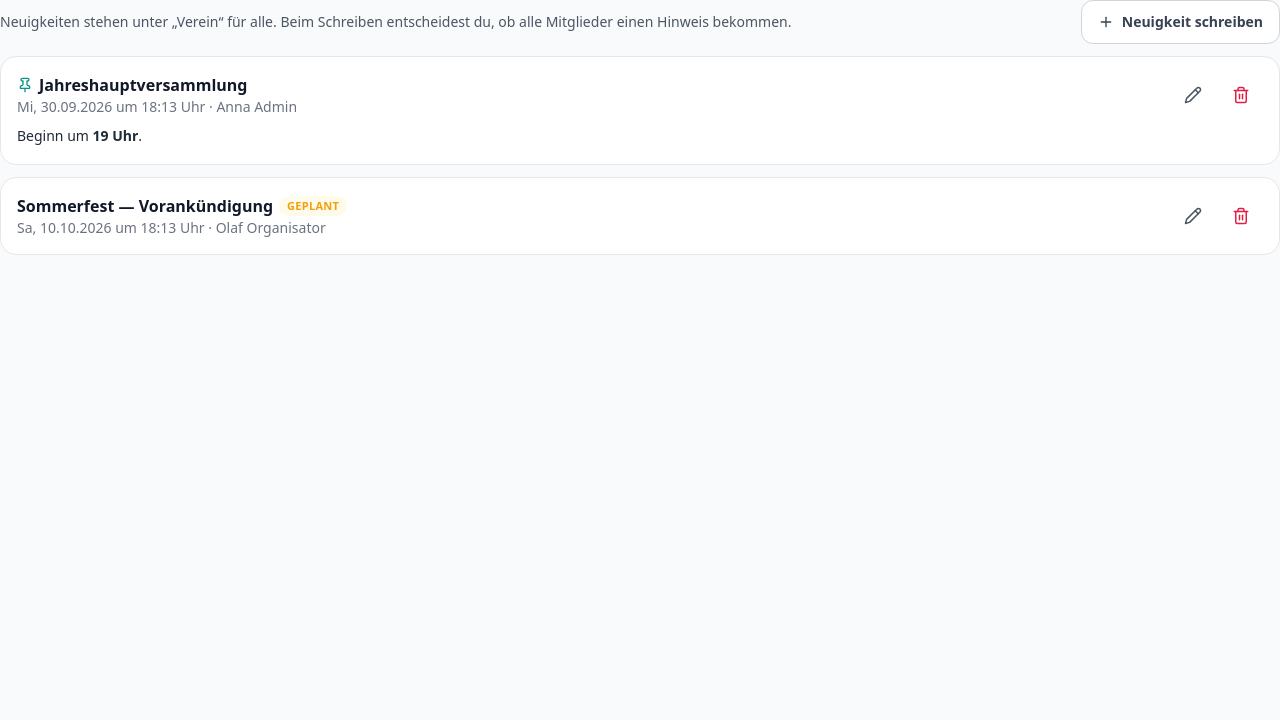
Test case: NewsTab › verlangt eine Überschrift
Check: the heading "Jahreshauptversammlung" is shown, box [39,73,248,97]
Click the button "Neuigkeit schreiben".
click(1180, 22)  # box [1081,0,1279,44]
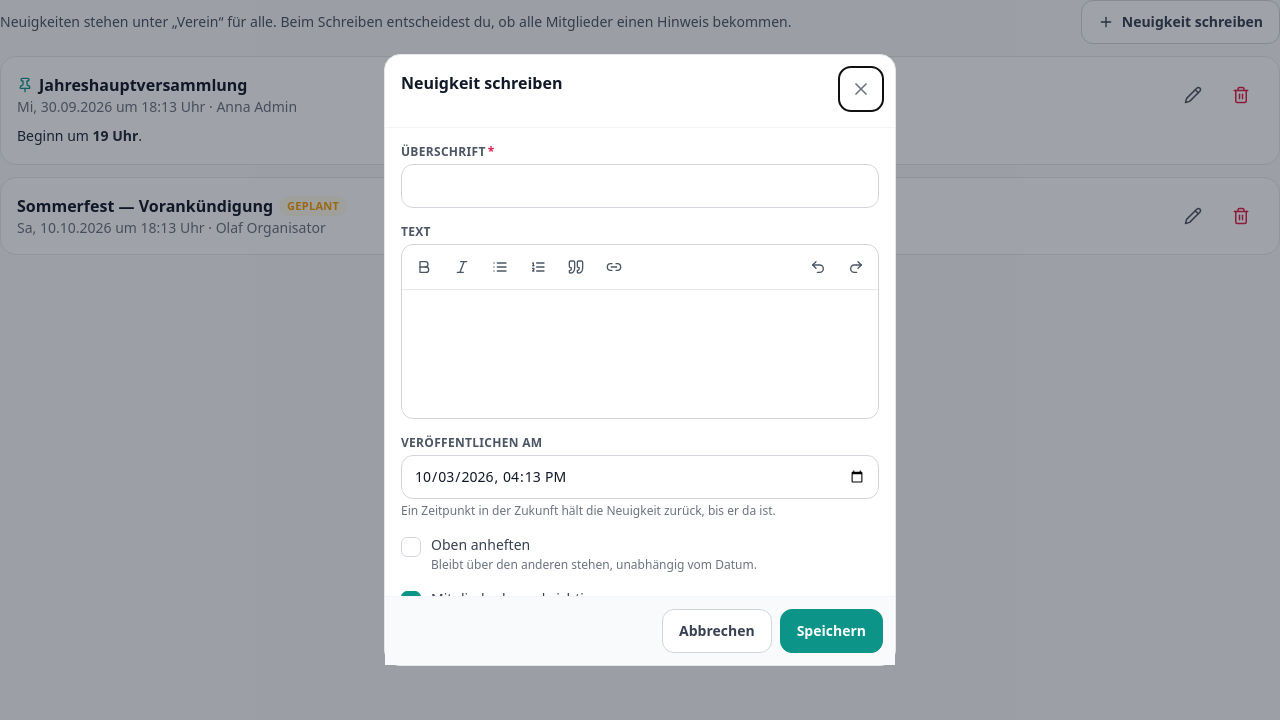
Click the button "Speichern".
click(831, 631)  # box [780,609,883,653]
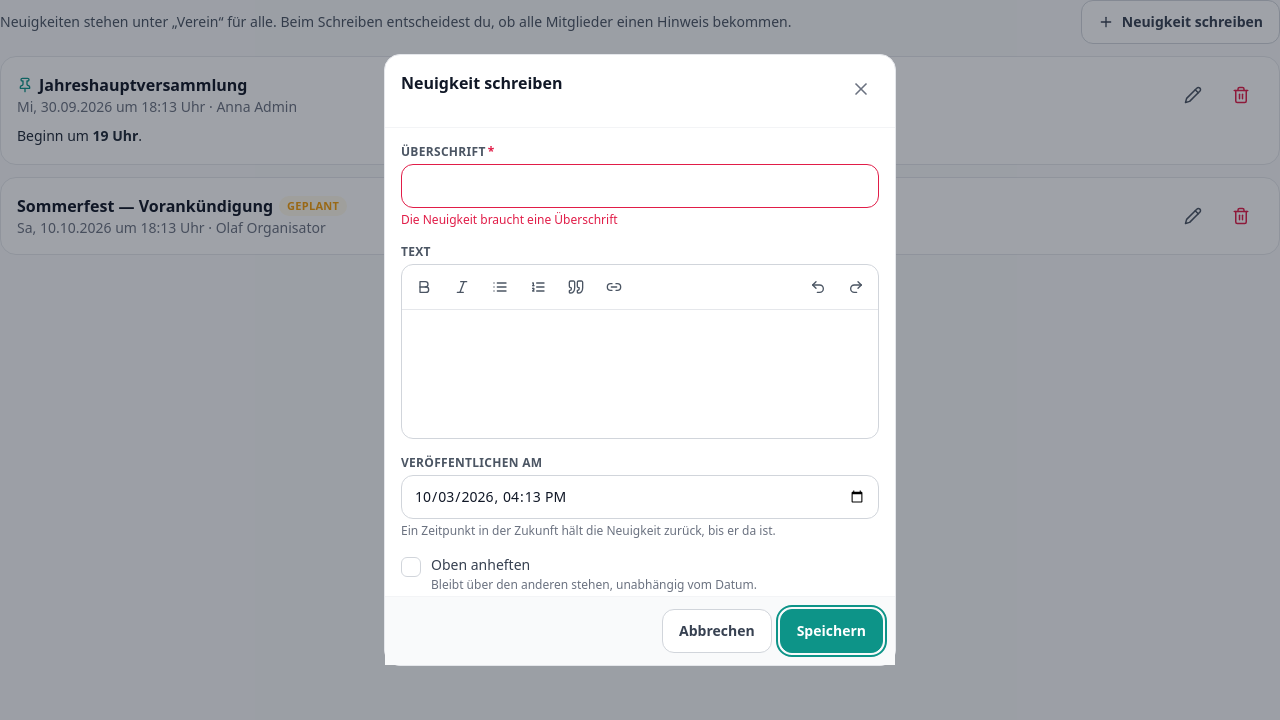
Check: the text "Die Neuigkeit braucht eine Überschrift" is shown, box [401,211,618,228]
